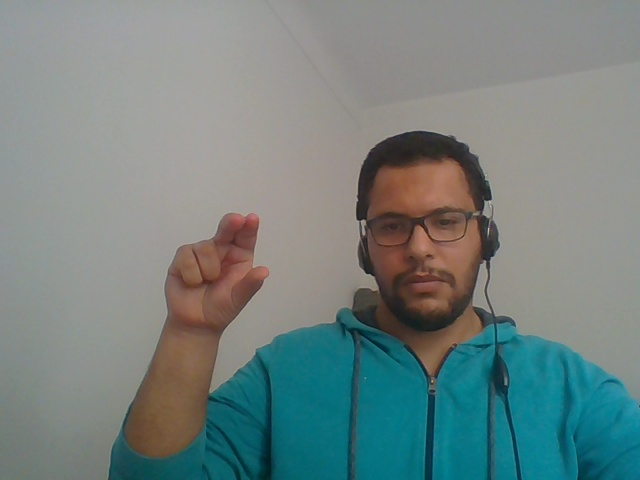no: (143, 200, 288, 333)
